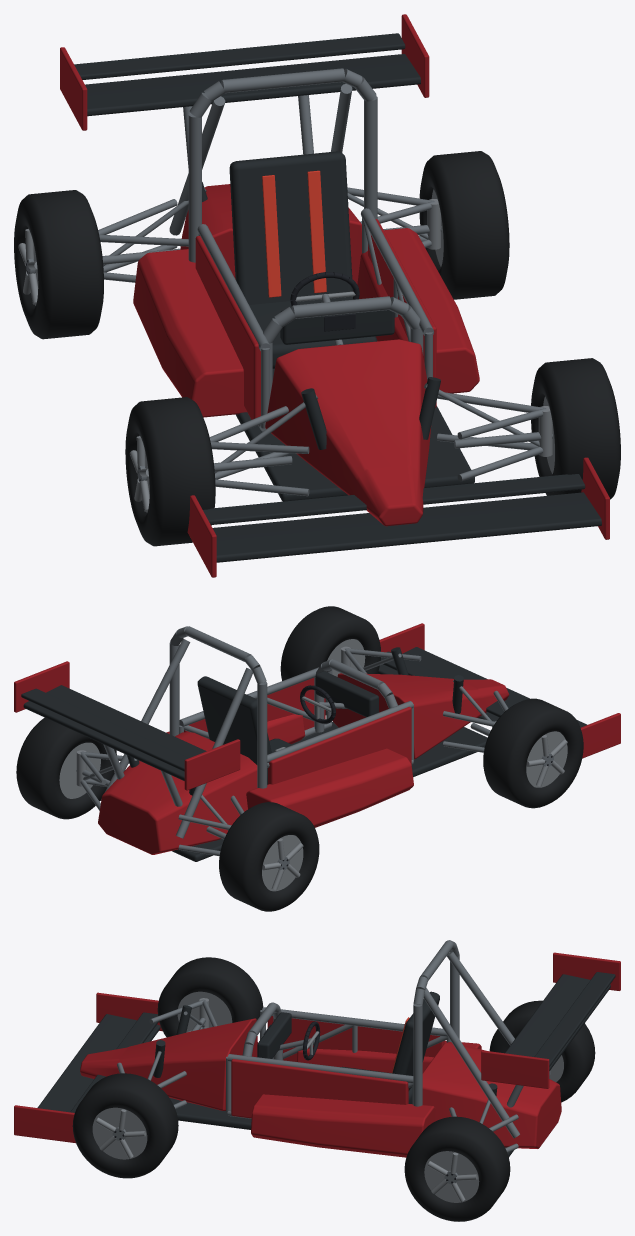
The model's file is car.glb.
3 views of the same model, one above another, from view 1: azimuth 30°, elevation 25°; view 2: azimuth 150°, elevation 25°; view 3: azimuth 270°, elevation 25° (orthographic). The views are drawn at different scales.
Parts seen in each view (by area): view 1: FSAE_Damper, FSAE_CockpitSide_1, Left_Front_SlickTire, FSAE_Axle, FSAE_HarnessBuckle, FSAE_ShoulderHarness, FSAE_DashDisplay; view 2: FSAE_CockpitSide_1, Left_Front_SlickTire, FSAE_Damper, FSAE_Axle, FSAE_HarnessBuckle, FSAE_DashDisplay; view 3: FSAE_CockpitSide_1, Left_Front_SlickTire, FSAE_Damper, FSAE_Axle, FSAE_HarnessBuckle, FSAE_DashDisplay.
Boxes of the visible parts, box(x1,y1,x2,y2) form: FSAE_Damper: box(74, 33, 601, 562); FSAE_CockpitSide_1: box(60, 14, 609, 577); Left_Front_SlickTire: box(14, 151, 620, 546); FSAE_Axle: box(26, 68, 552, 496); FSAE_HarnessBuckle: box(18, 189, 554, 512); FSAE_ShoulderHarness: box(262, 170, 326, 297); FSAE_DashDisplay: box(26, 260, 359, 480); FSAE_CockpitSide_1: box(14, 623, 620, 854); Left_Front_SlickTire: box(16, 606, 583, 911); FSAE_Damper: box(21, 647, 587, 861); FSAE_Axle: box(76, 626, 553, 869); FSAE_HarnessBuckle: box(59, 639, 567, 891); FSAE_DashDisplay: box(281, 685, 552, 869); FSAE_CockpitSide_1: box(14, 952, 620, 1157); Left_Front_SlickTire: box(72, 957, 595, 1221); FSAE_Damper: box(37, 972, 615, 1157); FSAE_Axle: box(112, 940, 550, 1184); FSAE_HarnessBuckle: box(92, 991, 563, 1202); FSAE_DashDisplay: box(114, 1021, 455, 1183).
Bounding box in the file's own units: 0.3004 × 0.1424 × 0.4105.
